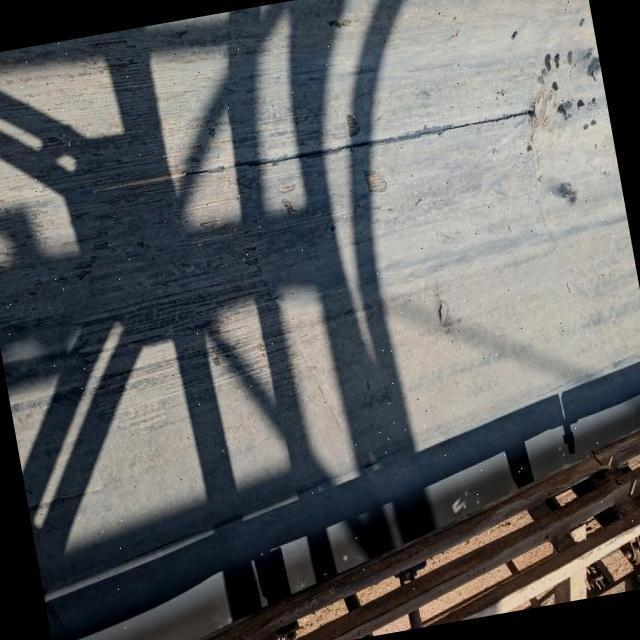Tear: (84, 109, 545, 200)
